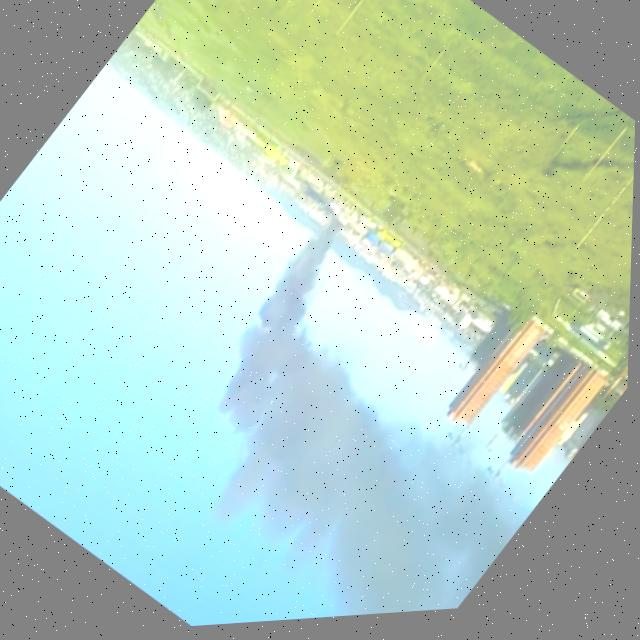Smoke: (169, 204, 512, 558)
